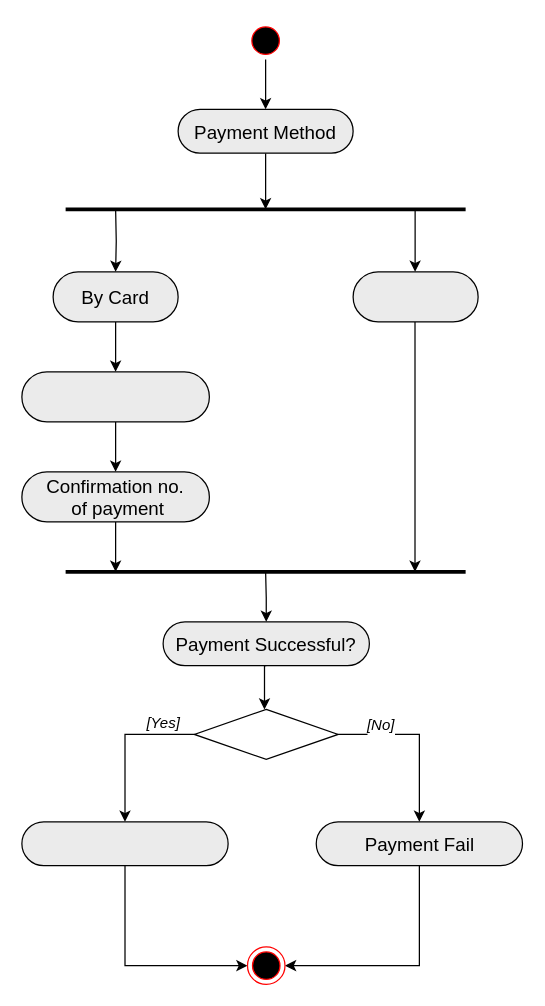
The diagram is 545 pixels wide and 1006 high, and some of its shapes have lost their labels. Here are the shapes that lost their labels. From the top down, the box of each, then its label:
(352, 271, 478, 322): By case
(21, 371, 209, 422): Enter Details of card
(21, 821, 228, 866): Booking Confirmation
